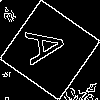A: (25, 25, 76, 66)
